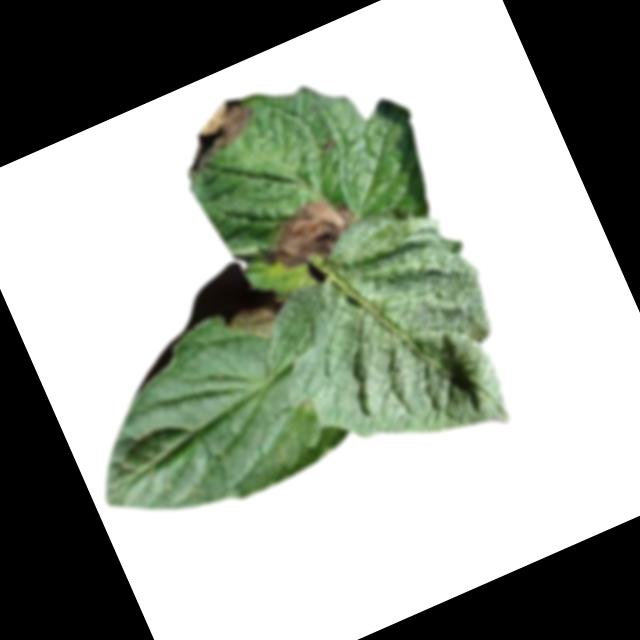Late_blight: (246, 183, 371, 286), (166, 92, 267, 178), (221, 290, 300, 353), (320, 136, 342, 155)
healthy: (226, 184, 543, 504)
